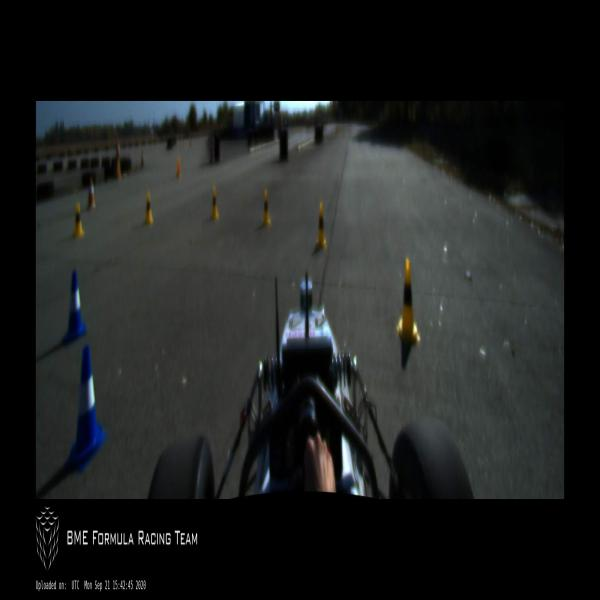blue_cone: (67, 346, 107, 472), (63, 270, 86, 340)
yellow_cone: (397, 260, 420, 341), (317, 202, 326, 248), (74, 203, 84, 237), (262, 189, 270, 226), (144, 192, 153, 224), (211, 187, 218, 219)
